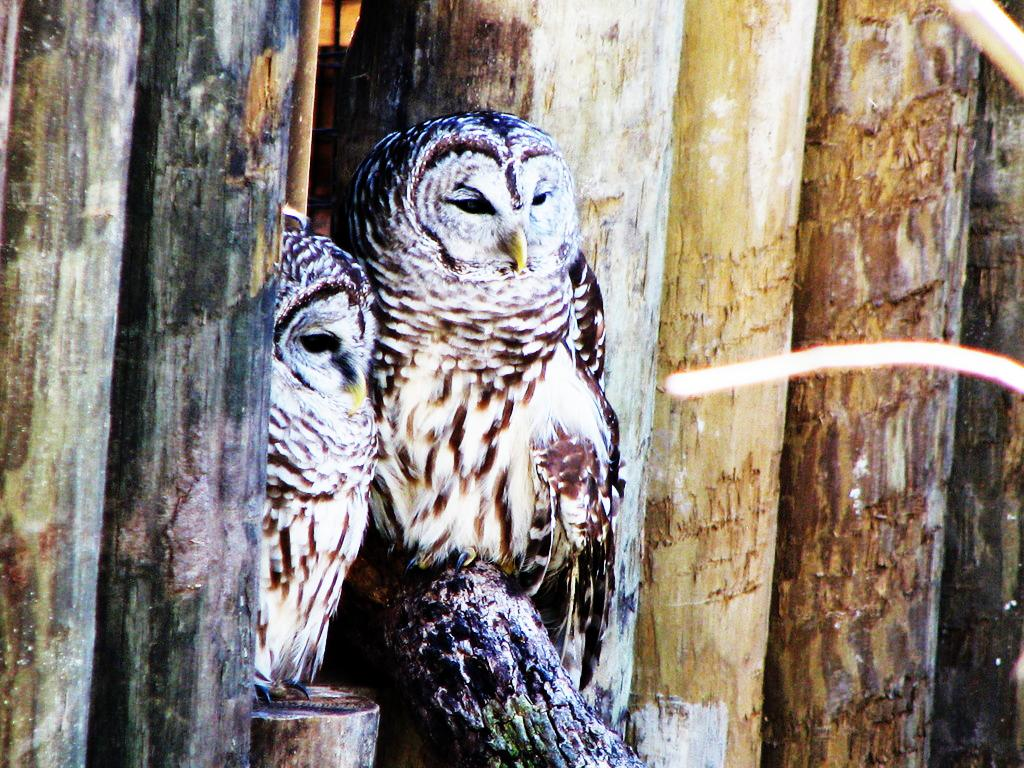Owl: (338, 103, 616, 698), (263, 228, 377, 706)
